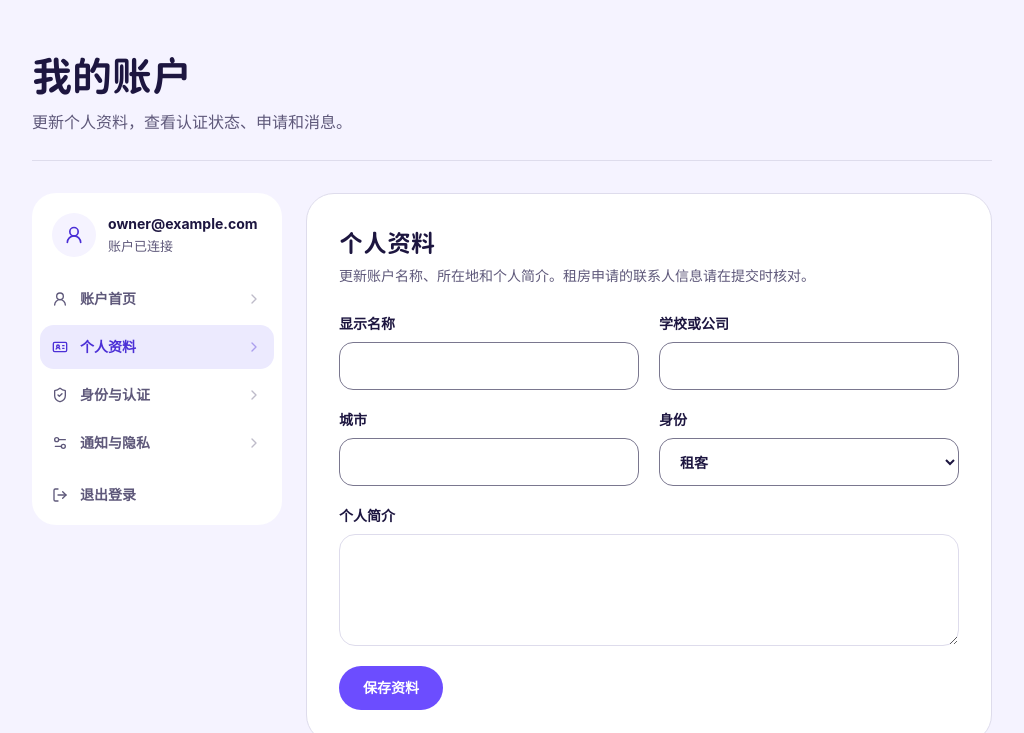
Test: account experience › sends displayed empty profile fields as clear operations when saving a role change
Select "转租人" in the dropdown labelled "身份" at (809,462), box [659,438,959,486]
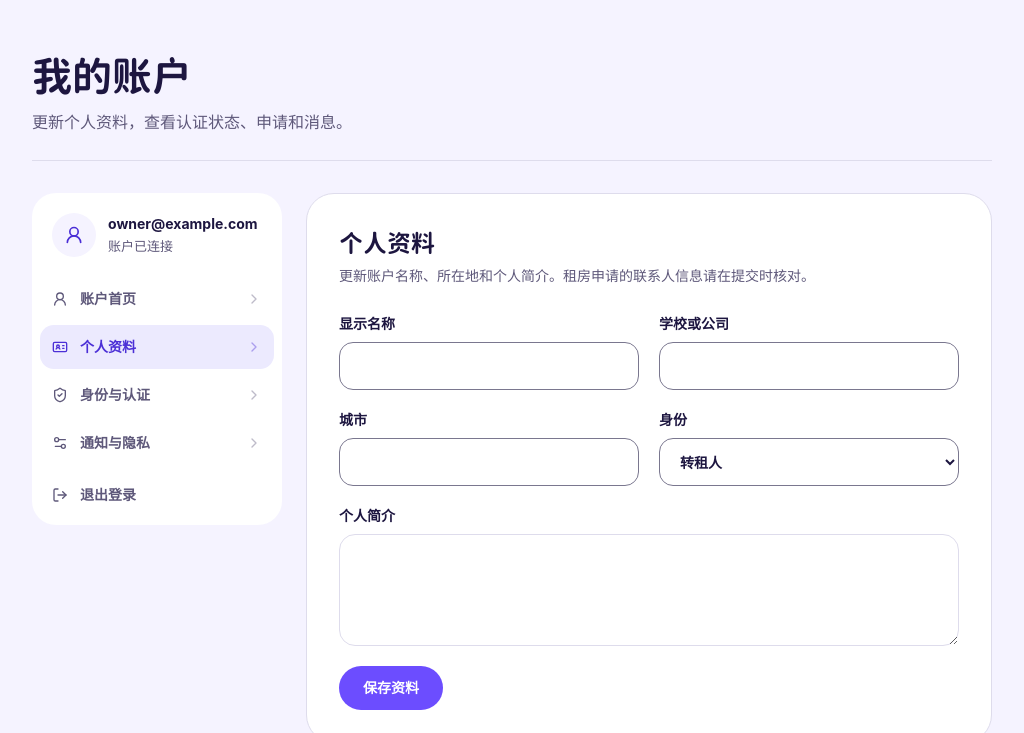
Click the button "保存资料" at (391,688), box [339,666,443,710]
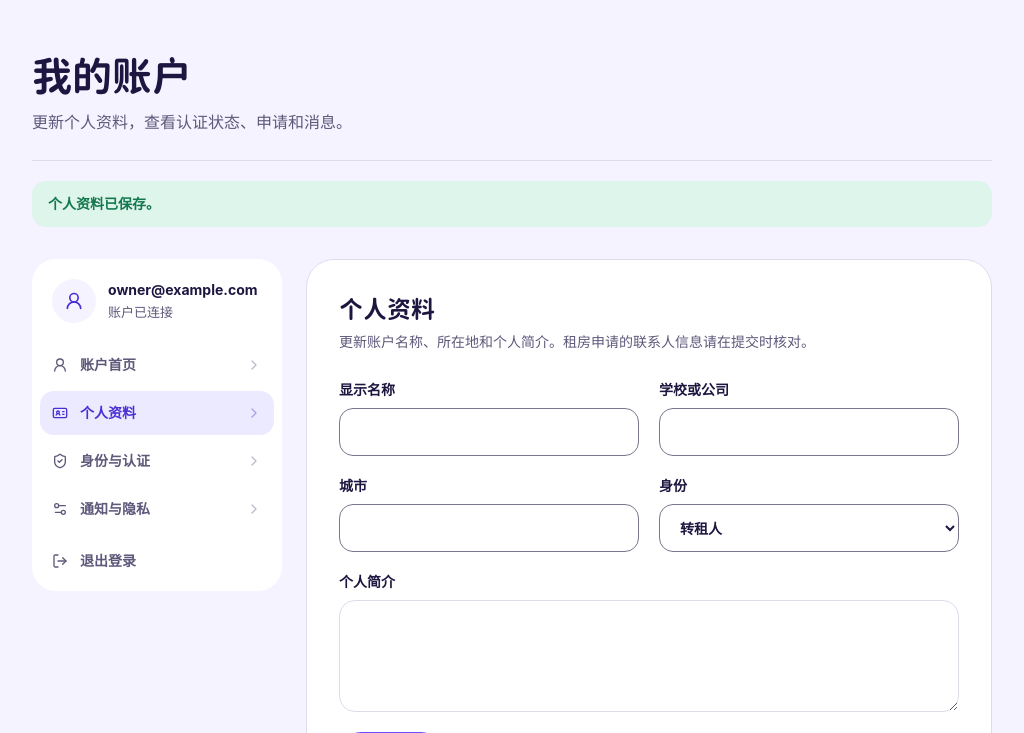
Expected: the text "个人资料已保存。" is shown, [32,181,992,227]
